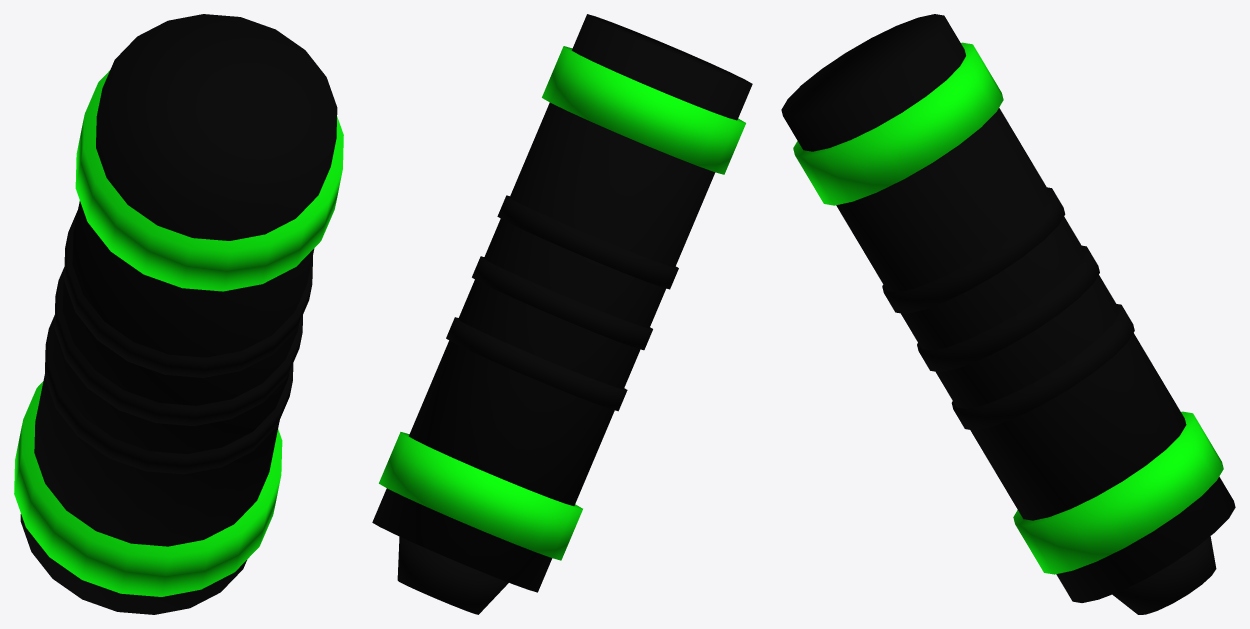
File: Operative_PowerCell.fbx
3 renders of one model, left to right at view 1: azimuth 30°, elevation 25°; view 2: azimuth 150°, elevation 25°; view 3: azimuth 270°, elevation 25°, orthographic. The views are drawn at different scales.
Parts seen in each view (by area): view 1: Operative_PowerCell; view 2: Operative_PowerCell; view 3: Operative_PowerCell.
Boxes of the visible parts, x1=… form: Operative_PowerCell: x1=14, y1=14, x2=343, y2=614; Operative_PowerCell: x1=372, y1=14, x2=752, y2=614; Operative_PowerCell: x1=781, y1=14, x2=1235, y2=614.
Size of the model in its own units: 4.97 by 10.47 by 7.85.
